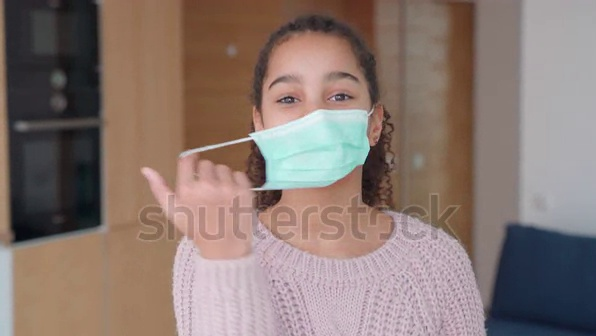Mask: (245, 105, 382, 193)
